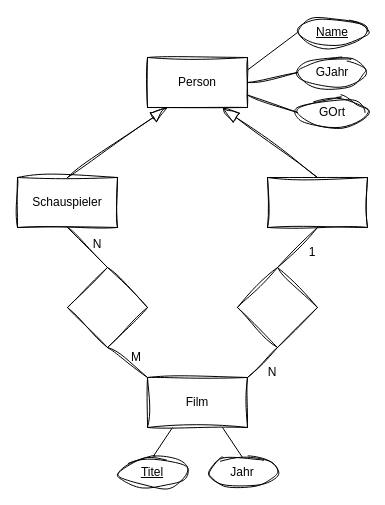
Some shapes in this 385 by 505 pixel diagram are drawn without their labels. Each missing label, with the centre of its shape:
führt Regie: the point at 277,307
Regisseur: the point at 317,202
wirkt mit: the point at 107,307
